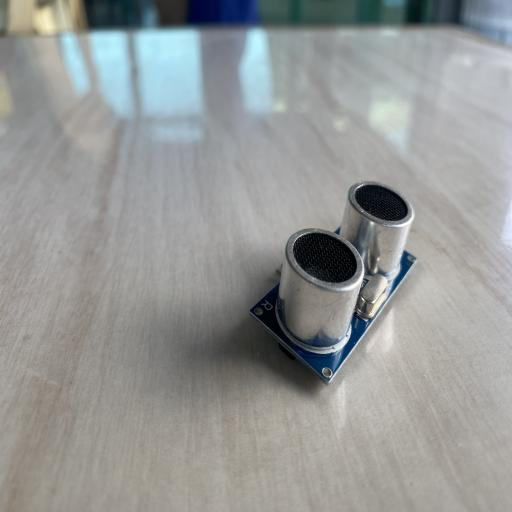Ultrasonic Sensor: (249, 180, 417, 387)
